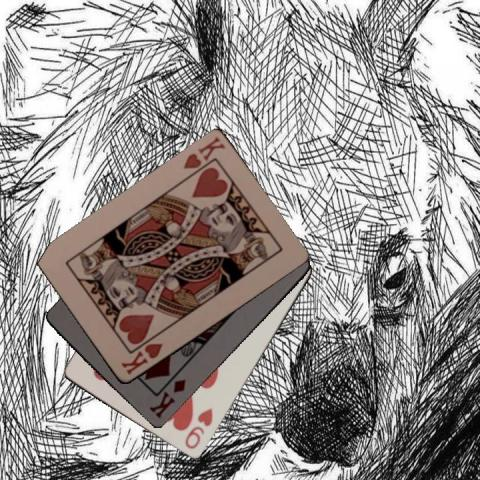9h: (181, 406, 215, 452)
Kd: (146, 376, 187, 420)
Kh: (180, 133, 227, 172), (118, 340, 164, 377)
